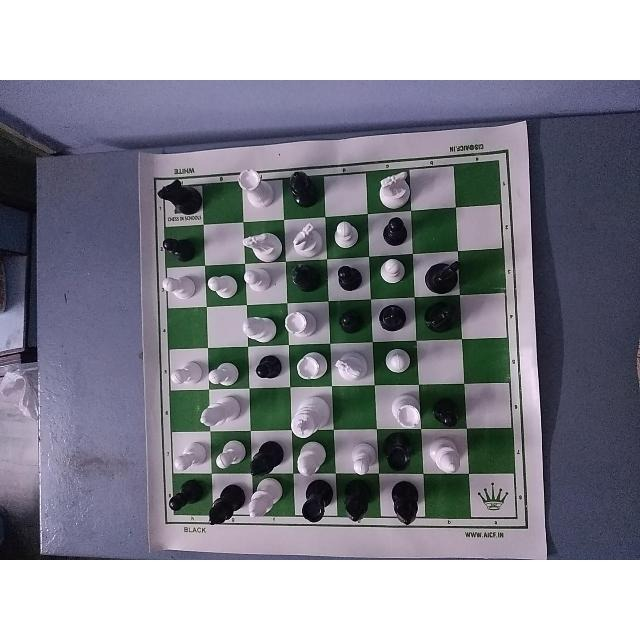black-bishop: (377, 478, 425, 534), (204, 476, 248, 532), (338, 477, 380, 526), (286, 163, 326, 211), (376, 298, 420, 341), (245, 435, 285, 478), (282, 260, 322, 301)
black-knight: (155, 177, 205, 222), (418, 254, 460, 294), (422, 299, 459, 335)
black-pawn: (163, 477, 205, 519), (373, 213, 411, 249), (160, 232, 200, 266), (245, 354, 287, 386), (423, 397, 467, 427), (334, 259, 370, 294), (338, 304, 370, 335)
black-rook: (381, 434, 423, 476), (296, 479, 336, 520)
white-bishop: (243, 477, 289, 521), (199, 392, 245, 433), (425, 437, 465, 477), (294, 438, 331, 477), (240, 311, 283, 341)
white-king: (286, 396, 331, 442)
white-knight: (334, 343, 381, 388), (283, 220, 330, 259), (243, 223, 285, 261), (381, 166, 417, 209)
white-pawn: (380, 343, 420, 381), (168, 351, 206, 387), (164, 273, 200, 310), (206, 266, 240, 304), (241, 267, 277, 301), (169, 439, 204, 472), (206, 356, 241, 389), (214, 438, 249, 469), (347, 440, 375, 478), (332, 219, 363, 253), (373, 260, 409, 288)
white-rook: (235, 163, 282, 210), (295, 348, 333, 388), (386, 395, 426, 433), (283, 309, 331, 340)
